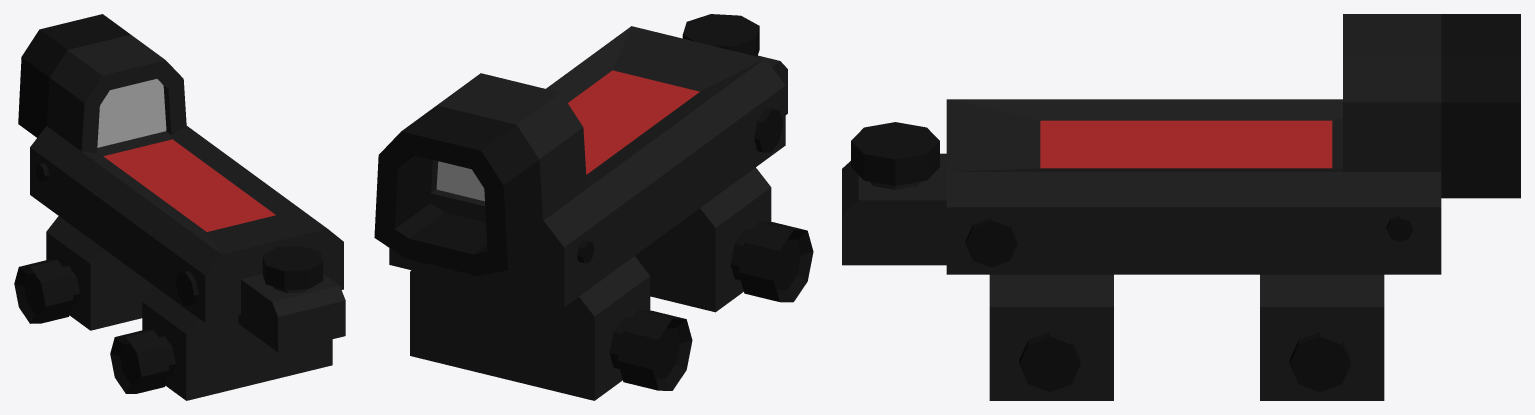
File: scene_hwVvskHrkP.glb
3 views of the same model, side by side, from view 1: azimuth 30°, elevation 25°; view 2: azimuth 150°, elevation 25°; view 3: azimuth 270°, elevation 25° (orthographic). The views are drawn at different scales.
Parts seen in each view (by area): view 1: RedDot_East; view 2: RedDot_East; view 3: RedDot_East.
Boxes of the visible parts, left/top/right/bottom form: RedDot_East: left=14, top=14, right=345, bottom=400; RedDot_East: left=374, top=14, right=813, bottom=400; RedDot_East: left=842, top=14, right=1520, bottom=400.
Bounding box in the file's own units: 0.0369 × 0.0409 × 0.0799.
